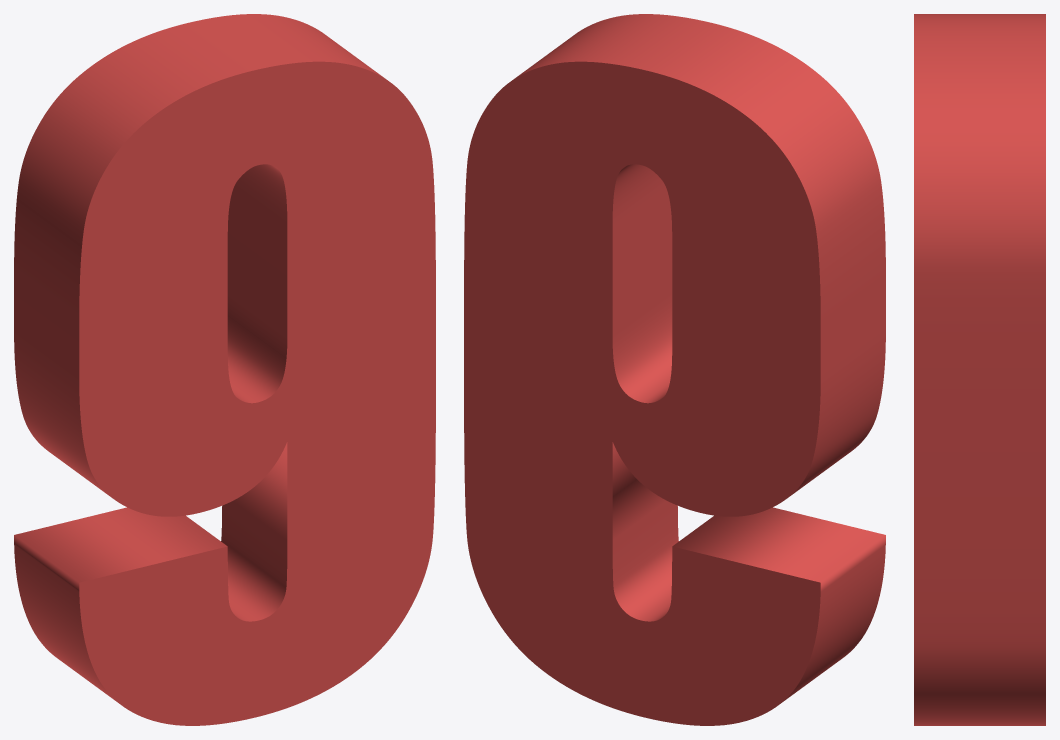
The picture shows the model from 3 angles, left to right: view 1: azimuth 30°, elevation 25°; view 2: azimuth 150°, elevation 25°; view 3: azimuth 270°, elevation 25°; orthographic projection.
Visible parts, largest first — view 1: テキスト; view 2: テキスト; view 3: テキスト.
Part boxes in pixels (left/top/right/bottom): テキスト: left=14, top=14, right=435, bottom=725; テキスト: left=464, top=14, right=885, bottom=725; テキスト: left=914, top=14, right=1045, bottom=725.
Bounding box in the file's own units: 0.3161 × 0.5481 × 0.1.
